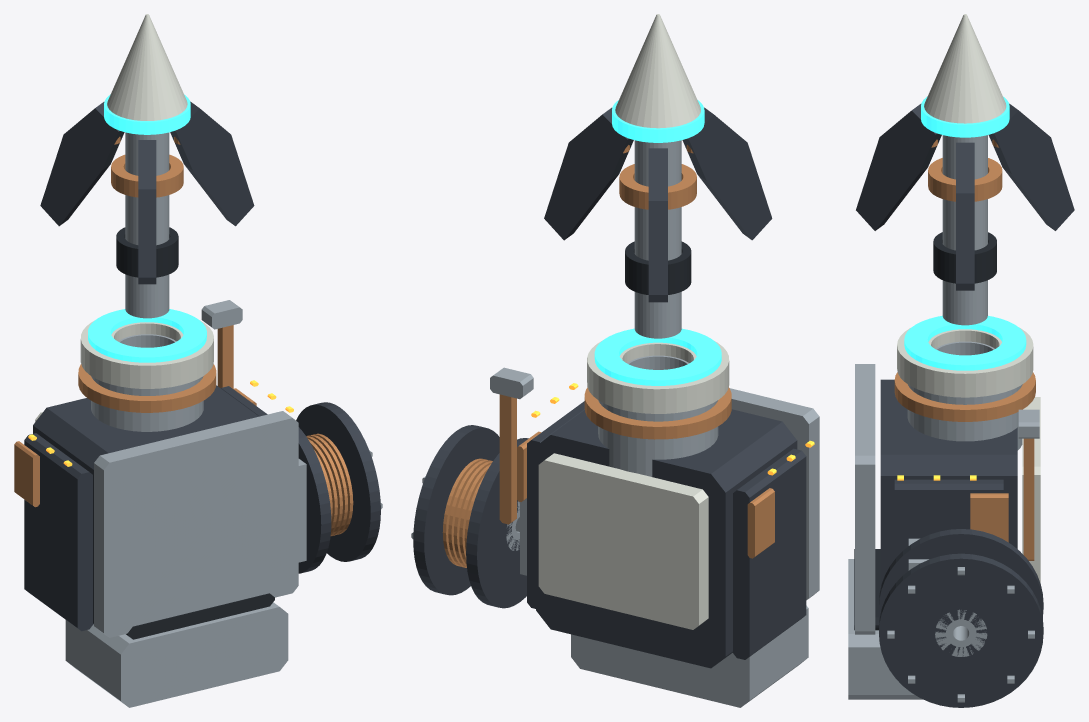
The model's file is M01-024_mechanical_anchor_harpoon.glb.
3 renders of one model, left to right at view 1: azimuth 30°, elevation 25°; view 2: azimuth 150°, elevation 25°; view 3: azimuth 270°, elevation 25°, orthographic. The views are drawn at different scales.
Parts seen in each view (by area): view 1: M01_024_Receiver_Titanium_Bottom, M01_024_Mount_Front_Key, M01_024_Side_Armor_L, M01_024_Receiver_Graphite_Core, M01_024_Drum_Front_Flange, M01_024_Anchor_Hook_01, M01_024_Anchor_Hook_02, M01_024_Harpoon_Piercing_Point, M01_024_Guide_Ceramic_Muzzle, M01_024_Harpoon_Extending_Shaft, M01_024_Guide_Cyan_Alignment, M01_024_Guide_Titanium_Sleeve (+14 smaller); view 2: M01_024_Receiver_Ceramic_Top, M01_024_Receiver_Graphite_Core, M01_024_Side_Armor_L, M01_024_Mount_Front_Key, M01_024_Drum_Front_Flange, M01_024_Anchor_Hook_03, M01_024_Anchor_Hook_01, M01_024_Drum_Rear_Flange, M01_024_Harpoon_Piercing_Point, M01_024_Guide_Ceramic_Muzzle, M01_024_Harpoon_Extending_Shaft, M01_024_Guide_Titanium_Sleeve (+14 smaller); view 3: M01_024_Drum_Front_Flange, M01_024_Receiver_Graphite_Core, M01_024_Receiver_Titanium_Bottom, M01_024_Anchor_Hook_02, M01_024_Anchor_Hook_03, M01_024_Harpoon_Piercing_Point, M01_024_Guide_Ceramic_Muzzle, M01_024_Side_Armor_R, M01_024_Harpoon_Extending_Shaft, M01_024_Drum_Rear_Flange, M01_024_Guide_Cyan_Alignment, M01_024_Guide_Titanium_Sleeve (+12 smaller).
Boxes of the visible parts, bbox=[...] form: M01_024_Receiver_Titanium_Bottom: bbox=[94, 411, 298, 637]; M01_024_Mount_Front_Key: bbox=[65, 602, 288, 707]; M01_024_Side_Armor_L: bbox=[24, 433, 93, 631]; M01_024_Receiver_Graphite_Core: bbox=[33, 385, 258, 623]; M01_024_Drum_Front_Flange: bbox=[296, 402, 380, 561]; M01_024_Anchor_Hook_01: bbox=[170, 101, 254, 226]; M01_024_Anchor_Hook_02: bbox=[40, 102, 124, 226]; M01_024_Harpoon_Piercing_Point: bbox=[107, 14, 187, 120]; M01_024_Guide_Ceramic_Muzzle: bbox=[80, 320, 213, 388]; M01_024_Harpoon_Extending_Shaft: bbox=[125, 132, 169, 318]; M01_024_Guide_Cyan_Alignment: bbox=[88, 309, 206, 362]; M01_024_Guide_Titanium_Sleeve: bbox=[91, 334, 203, 431]; M01_024_Receiver_Ceramic_Top: bbox=[538, 453, 708, 629]; M01_024_Receiver_Graphite_Core: bbox=[536, 409, 797, 668]; M01_024_Side_Armor_L: bbox=[732, 448, 806, 659]; M01_024_Mount_Front_Key: bbox=[571, 605, 808, 707]; M01_024_Drum_Front_Flange: bbox=[413, 425, 499, 595]; M01_024_Anchor_Hook_03: bbox=[682, 107, 772, 240]; M01_024_Anchor_Hook_01: bbox=[544, 107, 633, 240]; M01_024_Drum_Rear_Flange: bbox=[466, 438, 528, 608]; M01_024_Harpoon_Piercing_Point: bbox=[615, 14, 700, 128]; M01_024_Guide_Ceramic_Muzzle: bbox=[587, 341, 729, 413]; M01_024_Harpoon_Extending_Shaft: bbox=[634, 140, 681, 338]; M01_024_Guide_Titanium_Sleeve: bbox=[598, 355, 718, 476]; M01_024_Drum_Front_Flange: bbox=[879, 553, 1043, 707]; M01_024_Receiver_Graphite_Core: bbox=[880, 379, 1017, 587]; M01_024_Receiver_Titanium_Bottom: bbox=[855, 364, 875, 634]; M01_024_Anchor_Hook_02: bbox=[988, 103, 1074, 230]; M01_024_Anchor_Hook_03: bbox=[856, 104, 941, 230]; M01_024_Harpoon_Piercing_Point: bbox=[924, 14, 1006, 123]; M01_024_Guide_Ceramic_Muzzle: bbox=[897, 327, 1033, 397]; M01_024_Side_Armor_R: bbox=[894, 479, 1003, 559]; M01_024_Harpoon_Extending_Shaft: bbox=[942, 135, 987, 325]; M01_024_Drum_Rear_Flange: bbox=[879, 529, 1043, 617]; M01_024_Guide_Cyan_Alignment: bbox=[904, 315, 1026, 370]; M01_024_Guide_Titanium_Sleeve: bbox=[907, 341, 1022, 450].
Size of the model in its own units: 0.9093 by 1.77 by 0.5613.
